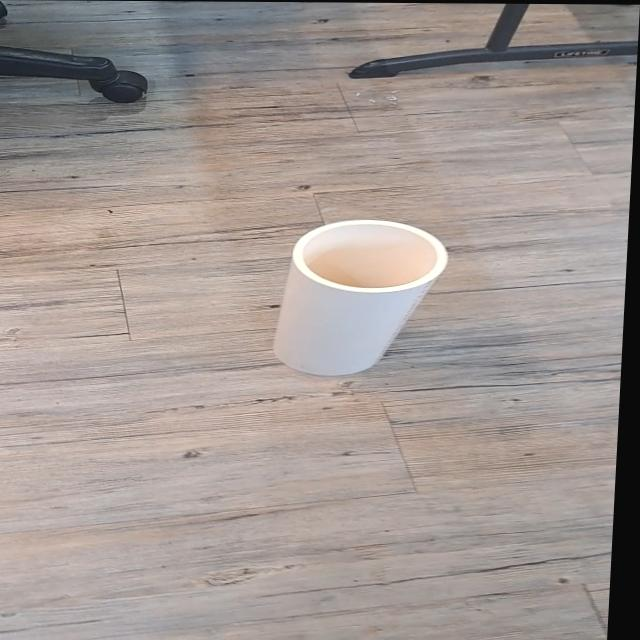CORAL: (229, 202, 472, 392)
